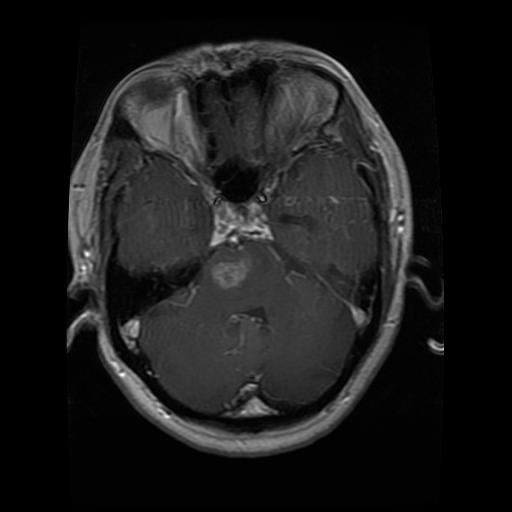Gliomia_tumour: (209, 256, 250, 290)
